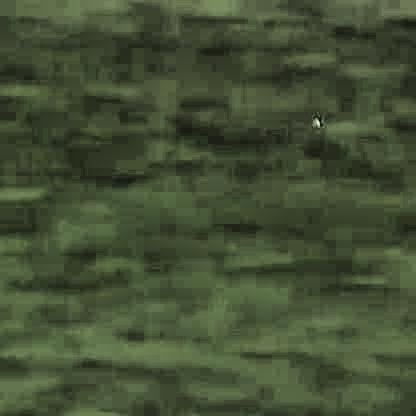golfball: (308, 113, 319, 124)
